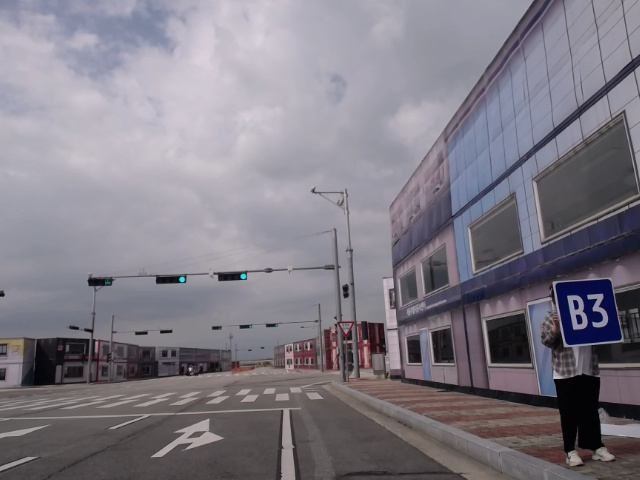delivery_b3: (552, 280, 627, 348)
straight_green_4: (216, 270, 248, 283), (152, 273, 186, 285), (238, 323, 254, 330), (264, 322, 279, 329)
